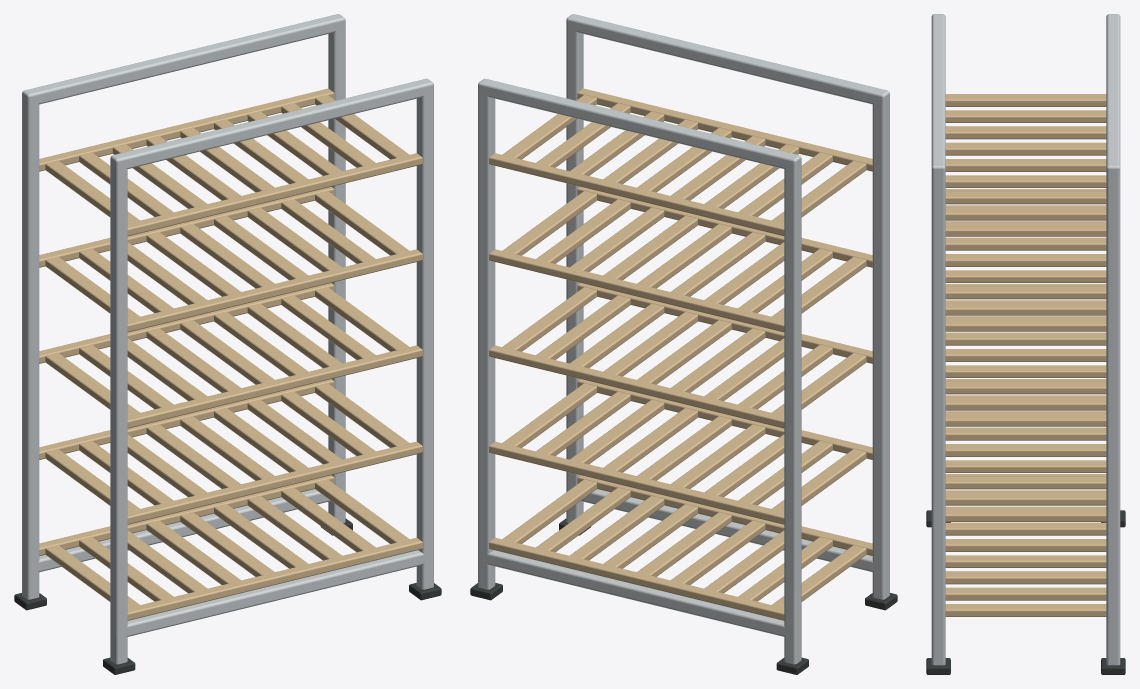
Rendered from candlemaking-and-soap-workshop-soap-drying-rack-cf3e363b__30682.glb.
The picture shows the model from 3 angles, left to right: view 1: azimuth 30°, elevation 25°; view 2: azimuth 150°, elevation 25°; view 3: azimuth 270°, elevation 25°; orthographic projection.
Visible parts, largest first — view 1: soap-drying-rack; view 2: soap-drying-rack; view 3: soap-drying-rack.
Part boxes in pixels (x1,y1,x2,y2): soap-drying-rack: [14, 14, 441, 674]; soap-drying-rack: [470, 14, 897, 674]; soap-drying-rack: [926, 14, 1125, 674].
Size of the model in its own units: 1.07 by 1.6 by 0.57.
